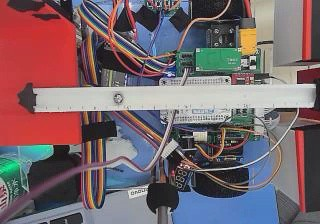ironball: (112, 93, 123, 103)
